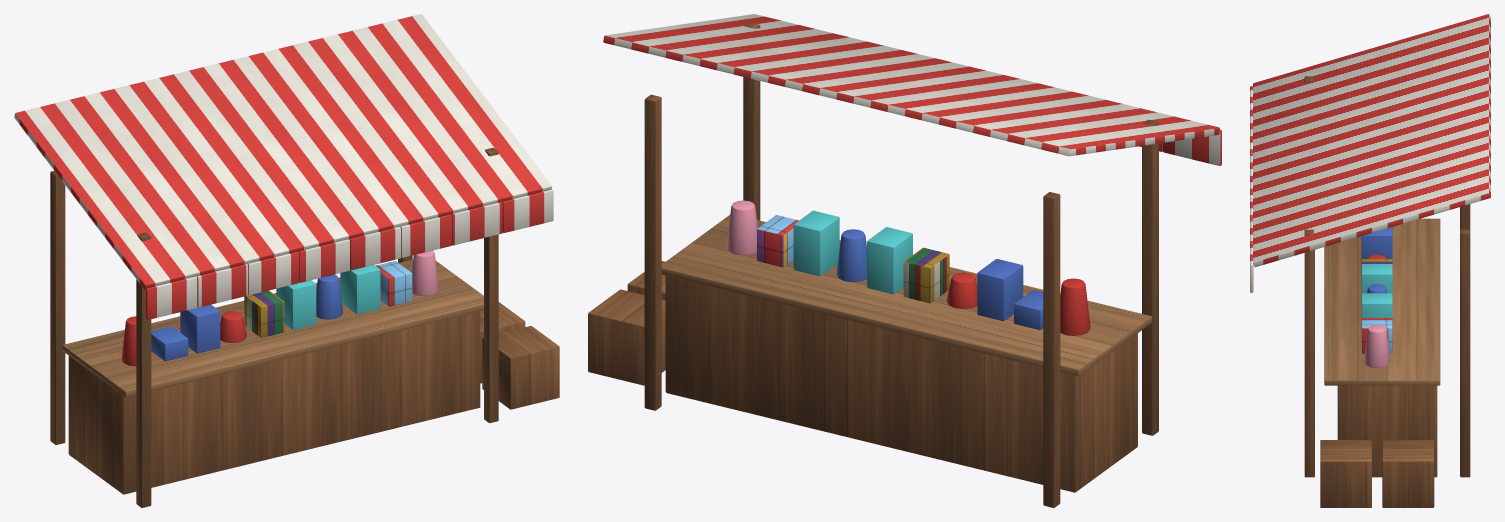
File: market_stall_b.glb
3 views of the same model, side by side, from view 1: azimuth 30°, elevation 25°; view 2: azimuth 150°, elevation 25°; view 3: azimuth 270°, elevation 25° (orthographic). The views are drawn at different scales.
Parts seen in each view (by area): view 1: market_stall_b; view 2: market_stall_b; view 3: market_stall_b.
Part boxes in pixels (x1=…): market_stall_b: x1=14, y1=14, x2=559, y2=507; market_stall_b: x1=588, y1=14, x2=1221, y2=507; market_stall_b: x1=1250, y1=14, x2=1490, y2=507.
Bounding box in the file's own units: 4.55 × 3.15 × 2.32.
Materials: 9 (8 with a texture image).
